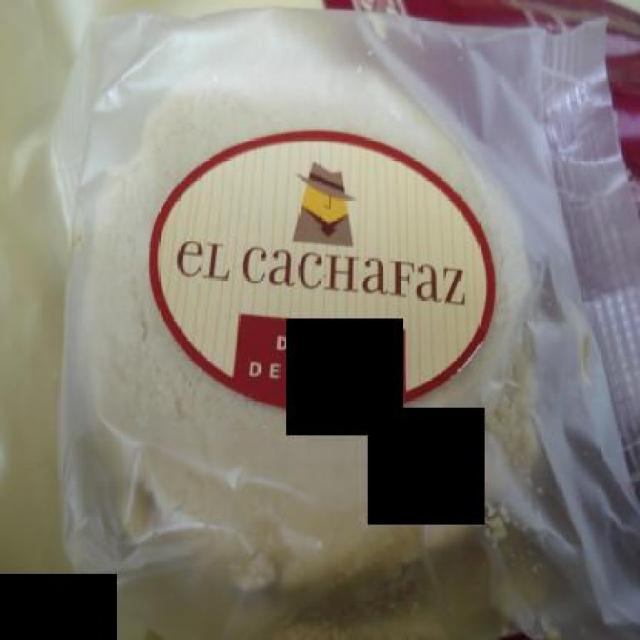plastic bag: (51, 7, 640, 640)
